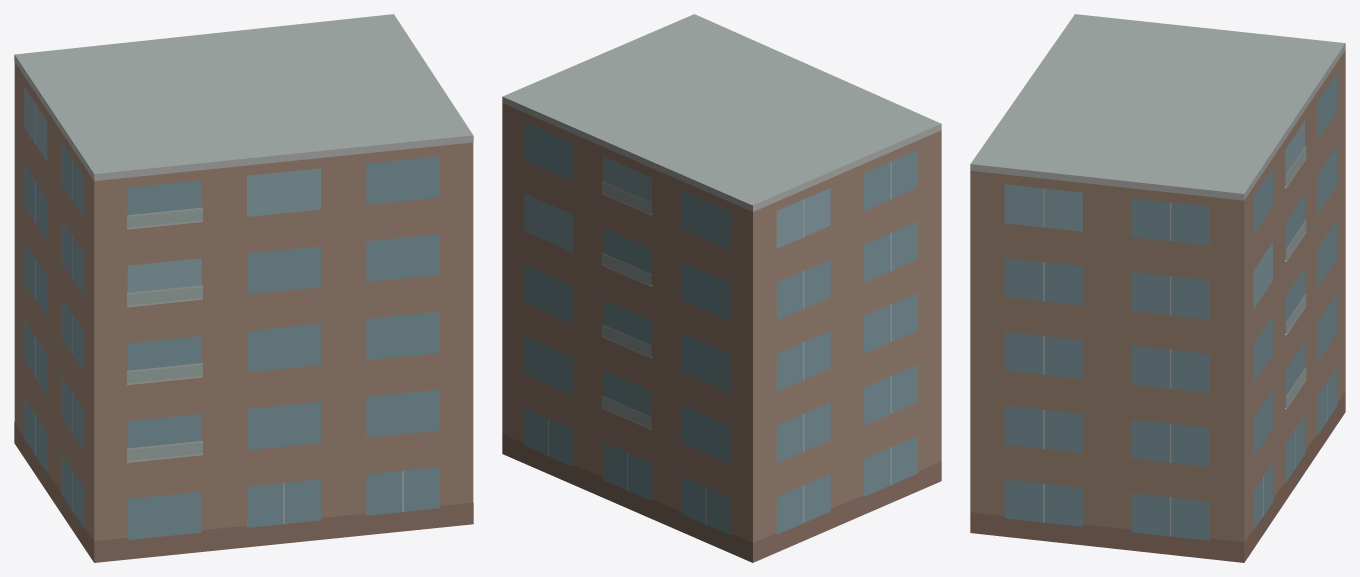
The model's file is survey-upis-32535323.glb.
3 renders of one model, left to right at view 1: azimuth 30°, elevation 25°; view 2: azimuth 150°, elevation 25°; view 3: azimuth 270°, elevation 25°, orthographic. The views are drawn at different scales.
Parts seen in each view (by area): view 1: survey-upis-32535323.tmp; view 2: survey-upis-32535323.tmp; view 3: survey-upis-32535323.tmp.
Boxes of the visible parts, x1=… form: survey-upis-32535323.tmp: x1=14, y1=14, x2=473, y2=562; survey-upis-32535323.tmp: x1=502, y1=14, x2=941, y2=562; survey-upis-32535323.tmp: x1=970, y1=14, x2=1345, y2=562.
Size of the model in its own units: 14.24 by 13.6 by 12.55.
